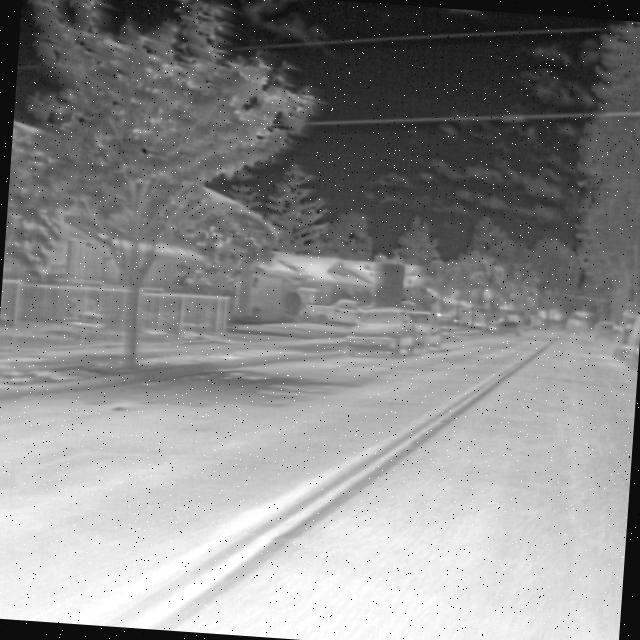Vehicle: (342, 301, 418, 360)
